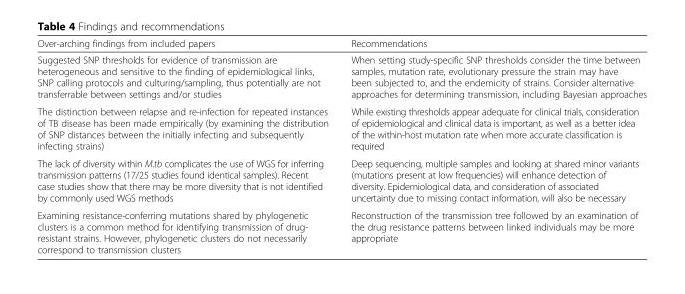table: (36, 37, 645, 254)
table column: (339, 37, 645, 254), (36, 37, 339, 254)
table column header: (36, 37, 645, 51)
table row: (36, 102, 645, 154), (36, 154, 645, 206), (36, 51, 645, 102), (36, 206, 645, 254), (36, 37, 645, 51)
